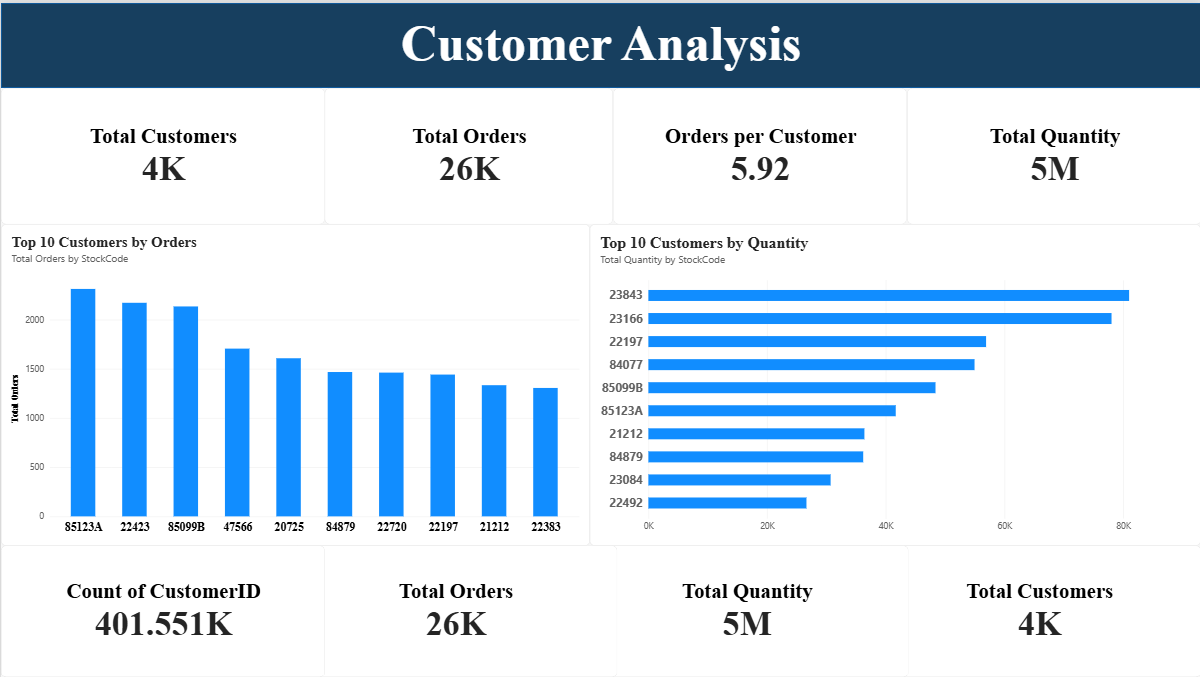

This screenshot's page, from the dashboard's own definition file:
{"tool":"powerbi","page":{"name":"Customer Analysis","canvas":[1920,1080],"ordinal":2},"visuals":[{"type":"shape","box":[0,0,1920.4,135.8],"z":0},{"type":"cardVisual","fields":{"Data":["DateTable.Total Customers"]},"box":[0,135.8,518.7,218.2],"z":0,"group":"g1"},{"type":"cardVisual","fields":{"Data":["DateTable.Total Orders"]},"box":[518.7,135.8,461.1,218.2],"z":0,"group":"g2"},{"type":"cardVisual","fields":{"Data":["DateTable.Orders per Customer"]},"box":[979.8,135.8,469.3,218.2],"z":0,"group":"g3"},{"type":"cardVisual","fields":{"Data":["DateTable.Total Quantity"]},"box":[1449.1,135.8,471.4,218.2],"z":0,"group":"g6"},{"type":"cardVisual","fields":{"Data":["CountNonNull(EcommerceData.CustomerID)"]},"box":[0,868.6,518.8,212],"z":0,"group":"g10"},{"type":"cardVisual","fields":{"Data":["DateTable.Total Orders"]},"box":[467.3,868.6,518.8,212],"z":0,"group":"g9"},{"type":"cardVisual","fields":{"Data":["DateTable.Total Quantity"]},"box":[934.7,868.6,518.8,212],"z":0,"group":"g8"},{"type":"cardVisual","fields":{"Data":["DateTable.Total Customers"]},"box":[1401.6,868.6,518.8,212],"z":0,"group":"g7"},{"type":"textbox","box":[0,18.5,1920.4,109.1],"z":1000},{"type":"group","id":"g1","title":"Group 1","box":[0,135.8,518.7,218.2],"z":2000,"group":"g5"},{"type":"columnChart","title":"Top 10 Customers by Orders","fields":{"Category":["EcommerceData.StockCode"],"Y":["DateTable.Total Orders"]},"box":[0,354,942.7,514.6],"z":2000},{"type":"group","id":"g2","title":"Group 1","box":[518.7,135.8,461.1,218.2],"z":3000,"group":"g5"},{"type":"barChart","title":"Top 10 Customers by Quantity","fields":{"Category":["EcommerceData.StockCode"],"Y":["DateTable.Total Quantity"]},"box":[942.7,354,977.7,514.6],"z":3000},{"type":"group","id":"g3","title":"Group 1","box":[979.8,135.8,469.3,218.2],"z":4000,"group":"g5"},{"type":"group","id":"g4","title":"Group 2","box":[0,868.6,1920.4,212],"z":4000},{"type":"group","id":"g5","title":"Group 3","box":[0,135.8,1920.4,218.2],"z":5000},{"type":"group","id":"g6","title":"Group 1","box":[1449.1,135.8,471.4,218.2],"z":5000,"group":"g5"},{"type":"group","id":"g7","title":"Group 1","box":[1401.6,868.6,518.8,212],"z":8000,"group":"g4"},{"type":"group","id":"g8","title":"Group 1","box":[934.7,868.6,518.8,212],"z":9000,"group":"g4"},{"type":"group","id":"g9","title":"Group 1","box":[467.3,868.6,518.8,212],"z":10000,"group":"g4"},{"type":"group","id":"g10","title":"Group 1","box":[0,868.6,518.8,212],"z":11000,"group":"g4"}]}

Visuals, with their boxes in screenshot pixels (x1, y1, x2, y2), scaled from the page's 1920x1080 canvas onto the 1200x677 screenshot:
shape: x1=0 y1=0 x2=1199 y2=85
cardVisual - DateTable.Total Customers: x1=0 y1=85 x2=324 y2=222
cardVisual - DateTable.Total Orders: x1=324 y1=85 x2=612 y2=222
cardVisual - DateTable.Orders per Customer: x1=612 y1=85 x2=906 y2=222
cardVisual - DateTable.Total Quantity: x1=906 y1=85 x2=1199 y2=222
cardVisual - CountNonNull(EcommerceData.CustomerID): x1=0 y1=544 x2=324 y2=676
cardVisual - DateTable.Total Orders: x1=292 y1=544 x2=616 y2=676
cardVisual - DateTable.Total Quantity: x1=584 y1=544 x2=908 y2=676
cardVisual - DateTable.Total Customers: x1=876 y1=544 x2=1199 y2=676
textbox: x1=0 y1=12 x2=1199 y2=80
"Group 1" group: x1=0 y1=85 x2=324 y2=222
"Top 10 Customers by Orders" columnChart: x1=0 y1=222 x2=589 y2=544
"Group 1" group: x1=324 y1=85 x2=612 y2=222
"Top 10 Customers by Quantity" barChart: x1=589 y1=222 x2=1199 y2=544
"Group 1" group: x1=612 y1=85 x2=906 y2=222
"Group 2" group: x1=0 y1=544 x2=1199 y2=676
"Group 3" group: x1=0 y1=85 x2=1199 y2=222
"Group 1" group: x1=906 y1=85 x2=1199 y2=222
"Group 1" group: x1=876 y1=544 x2=1199 y2=676
"Group 1" group: x1=584 y1=544 x2=908 y2=676
"Group 1" group: x1=292 y1=544 x2=616 y2=676
"Group 1" group: x1=0 y1=544 x2=324 y2=676
